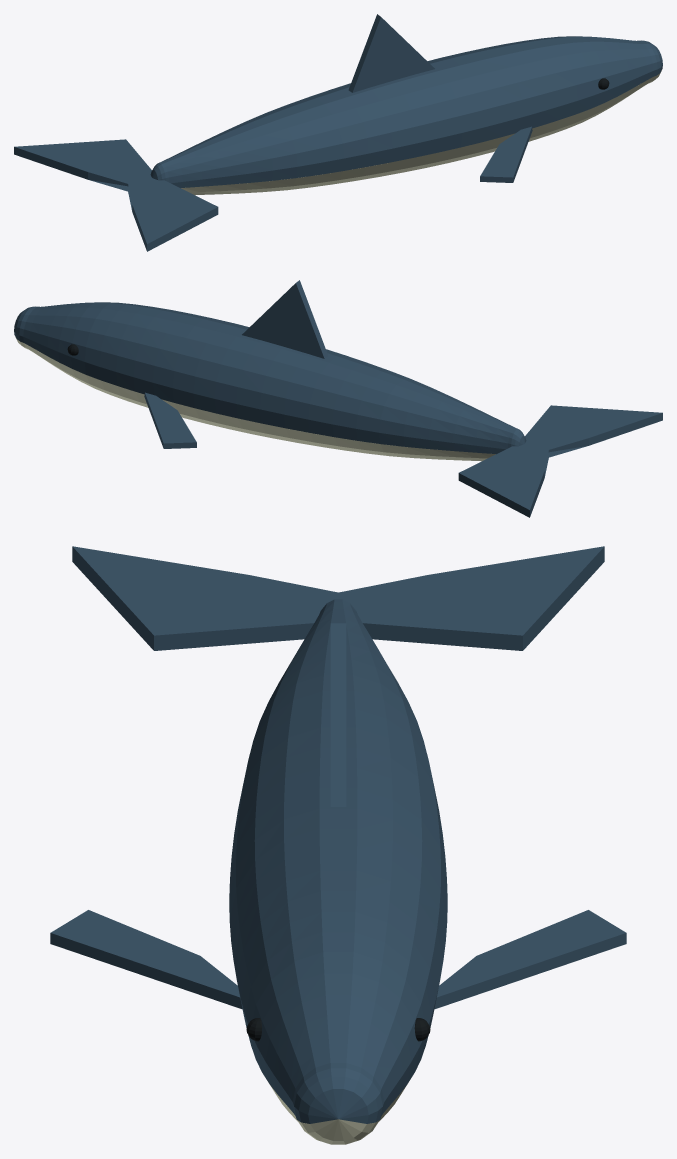
File: blue-whale.dae
3 renders of one model, top to bottom at view 1: azimuth 30°, elevation 25°; view 2: azimuth 150°, elevation 25°; view 3: azimuth 270°, elevation 25°, orthographic. The views are drawn at different scales.
Visible parts, largest first — view 1: part2-node, part1-node; view 2: part2-node, part1-node; view 3: part2-node, part1-node.
Part boxes in pixels (x1=…): part2-node: x1=14, y1=14, x2=662, y2=251; part1-node: x1=181, y1=70, x2=661, y2=195; part2-node: x1=14, y1=280, x2=662, y2=517; part1-node: x1=15, y1=336, x2=495, y2=461; part2-node: x1=50, y1=546, x2=626, y2=1123; part1-node: x1=268, y1=1082, x2=408, y2=1144.
Bounding box in the file's own units: 25 × 10.77 × 6.47.
